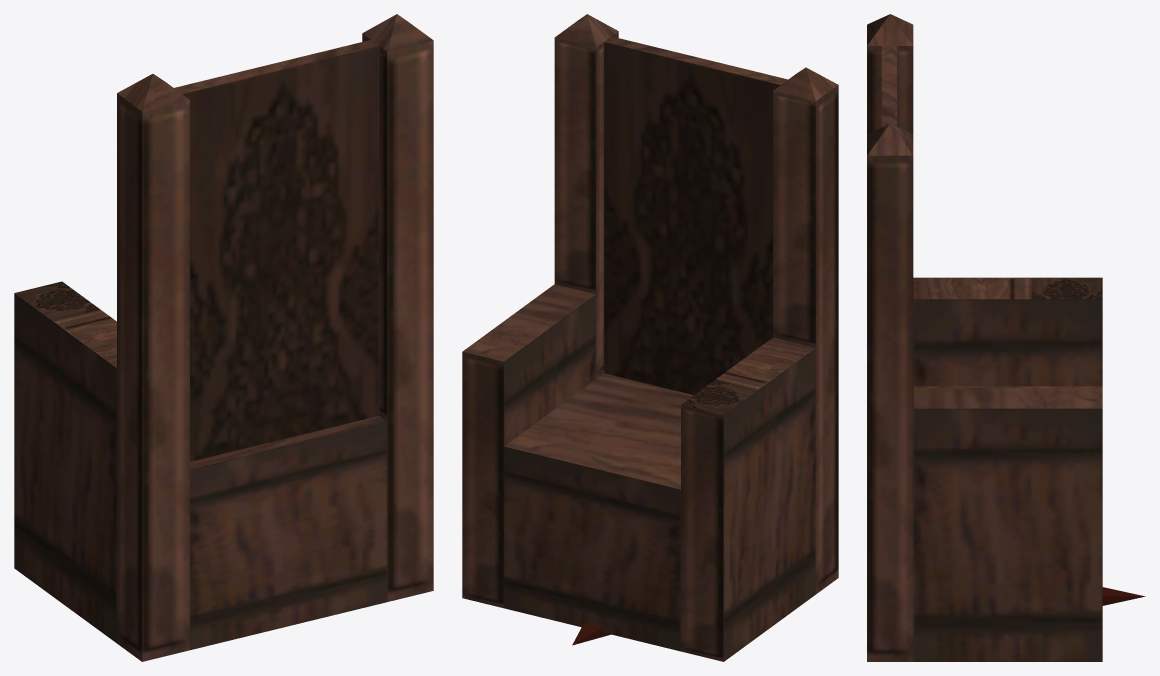
The model's file is Chair_DarkWood.glb.
3 views of the same model, side by side, from view 1: azimuth 30°, elevation 25°; view 2: azimuth 150°, elevation 25°; view 3: azimuth 270°, elevation 25° (orthographic). The views are drawn at different scales.
Parts seen in each view (by area): view 1: CHAIR_DARKWOOD; view 2: CHAIR_DARKWOOD; view 3: CHAIR_DARKWOOD.
Boxes of the visible parts, box(x1,y1,x2,y2) form: CHAIR_DARKWOOD: box(14, 14, 433, 661); CHAIR_DARKWOOD: box(462, 14, 838, 661); CHAIR_DARKWOOD: box(867, 14, 1145, 661).
Bounding box in the file's own units: 0.742 × 1.44 × 0.668.
Materials: 2 (2 with a texture image).
